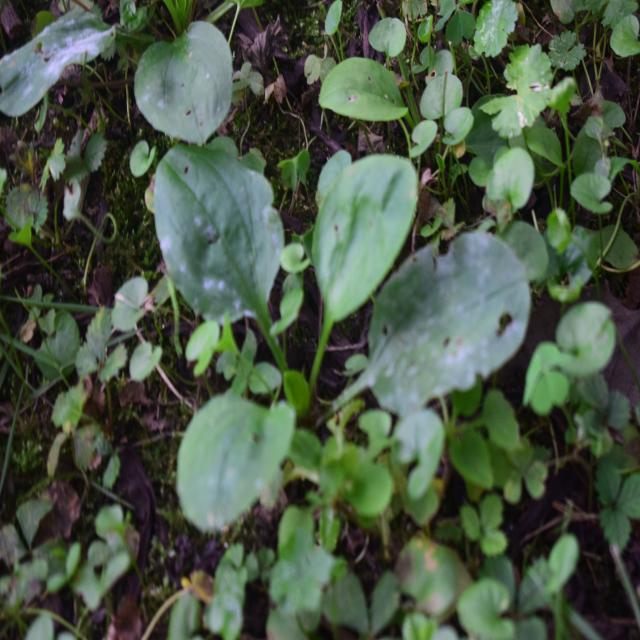plantain: (114, 123, 514, 510)
